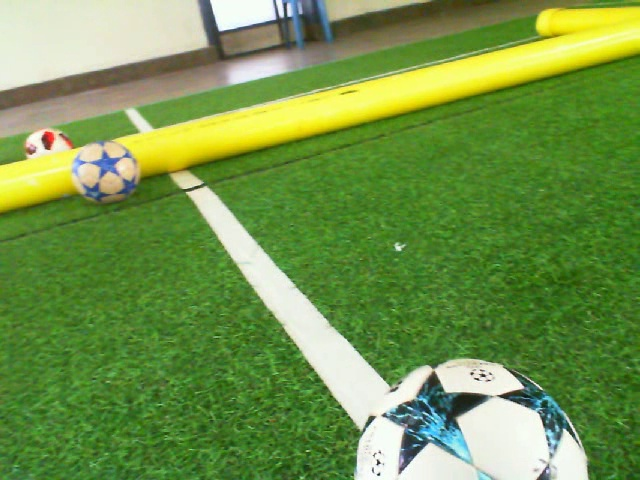ball: (352, 355, 591, 480), (70, 138, 142, 207), (22, 126, 69, 159)
